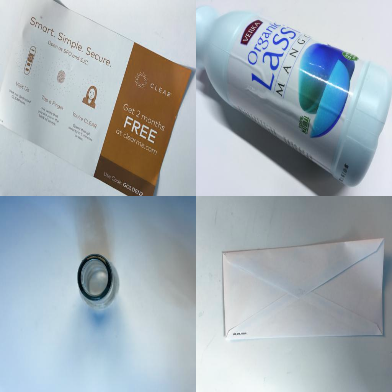glass: (77, 255, 120, 310)
paper: (1, 1, 196, 197), (221, 239, 385, 339)
plastic: (197, 6, 392, 187)
